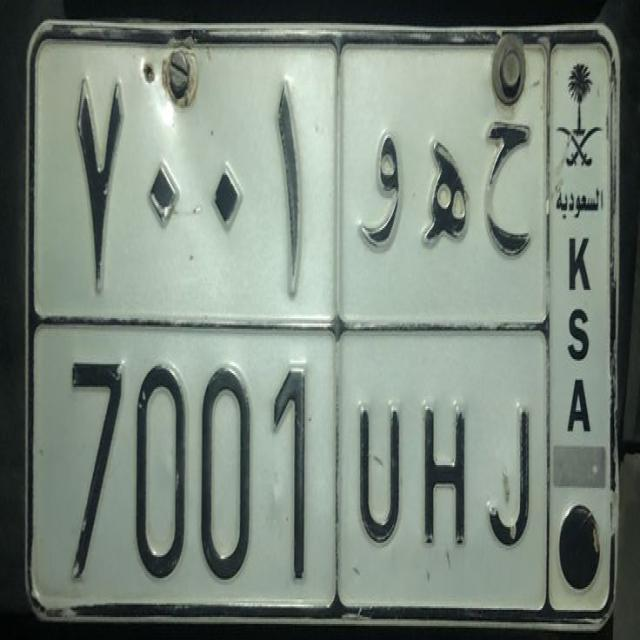license_plate: (27, 313, 552, 620)
